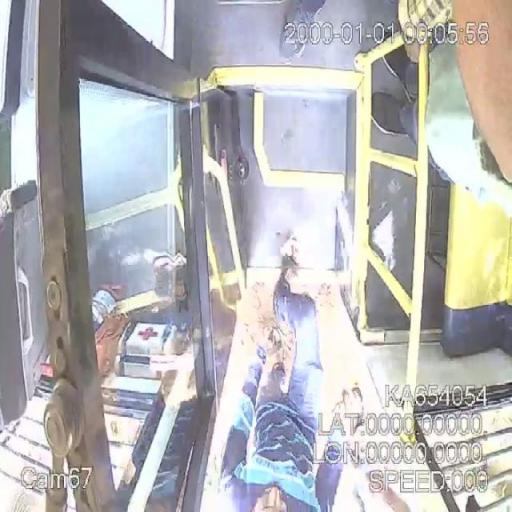persona: (223, 238, 336, 512)
